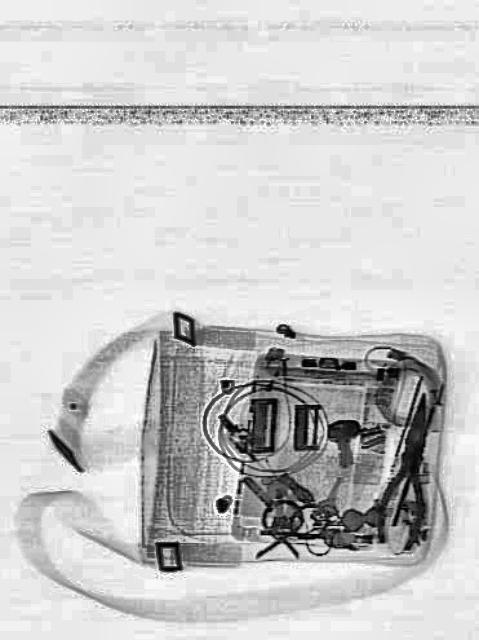Pliers: (374, 386, 447, 550)
